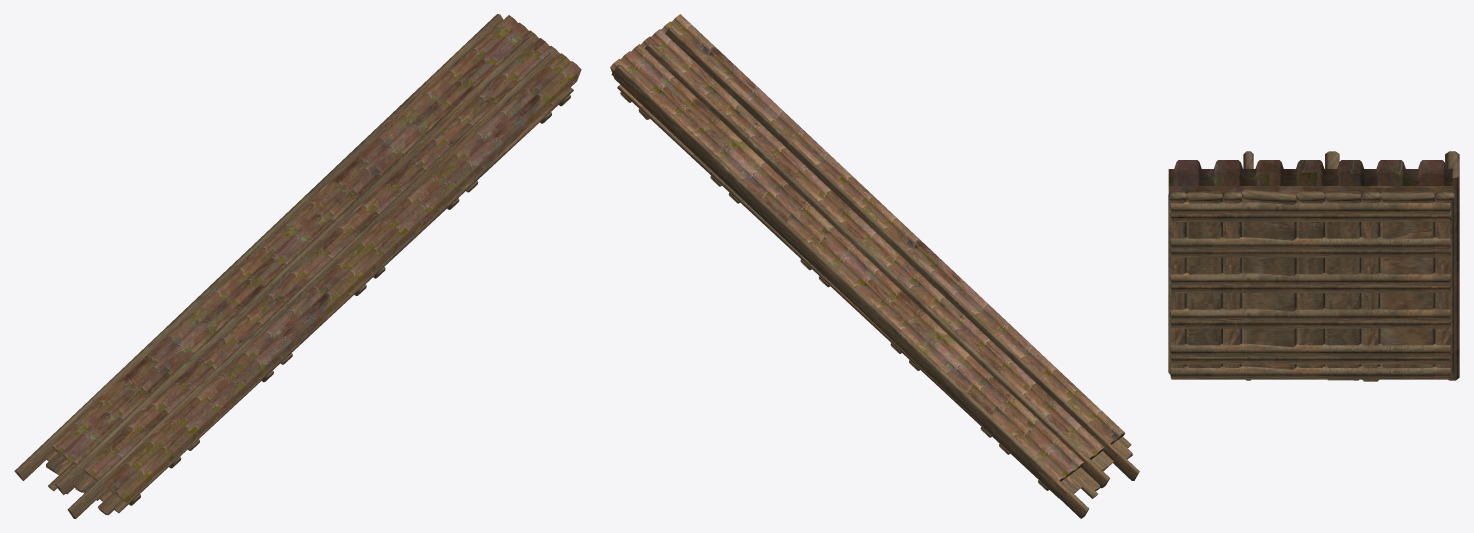
The model's file is SM_roof_01_base_03.fbx.
3 renders of one model, left to right at view 1: azimuth 30°, elevation 25°; view 2: azimuth 150°, elevation 25°; view 3: azimuth 270°, elevation 25°, orthographic. The views are drawn at different scales.
Parts seen in each view (by area): view 1: SM_roof_01_base_03_LOD0; view 2: SM_roof_01_base_03_LOD0; view 3: SM_roof_01_base_03_LOD0.
Boxes of the visible parts, x1,y1,x2,y2 form: SM_roof_01_base_03_LOD0: [14, 14, 581, 518]; SM_roof_01_base_03_LOD0: [610, 14, 1139, 518]; SM_roof_01_base_03_LOD0: [1168, 151, 1459, 381].
Bounding box in the file's own units: 778 × 205 × 528.
Materials: 2 (2 with a texture image).
